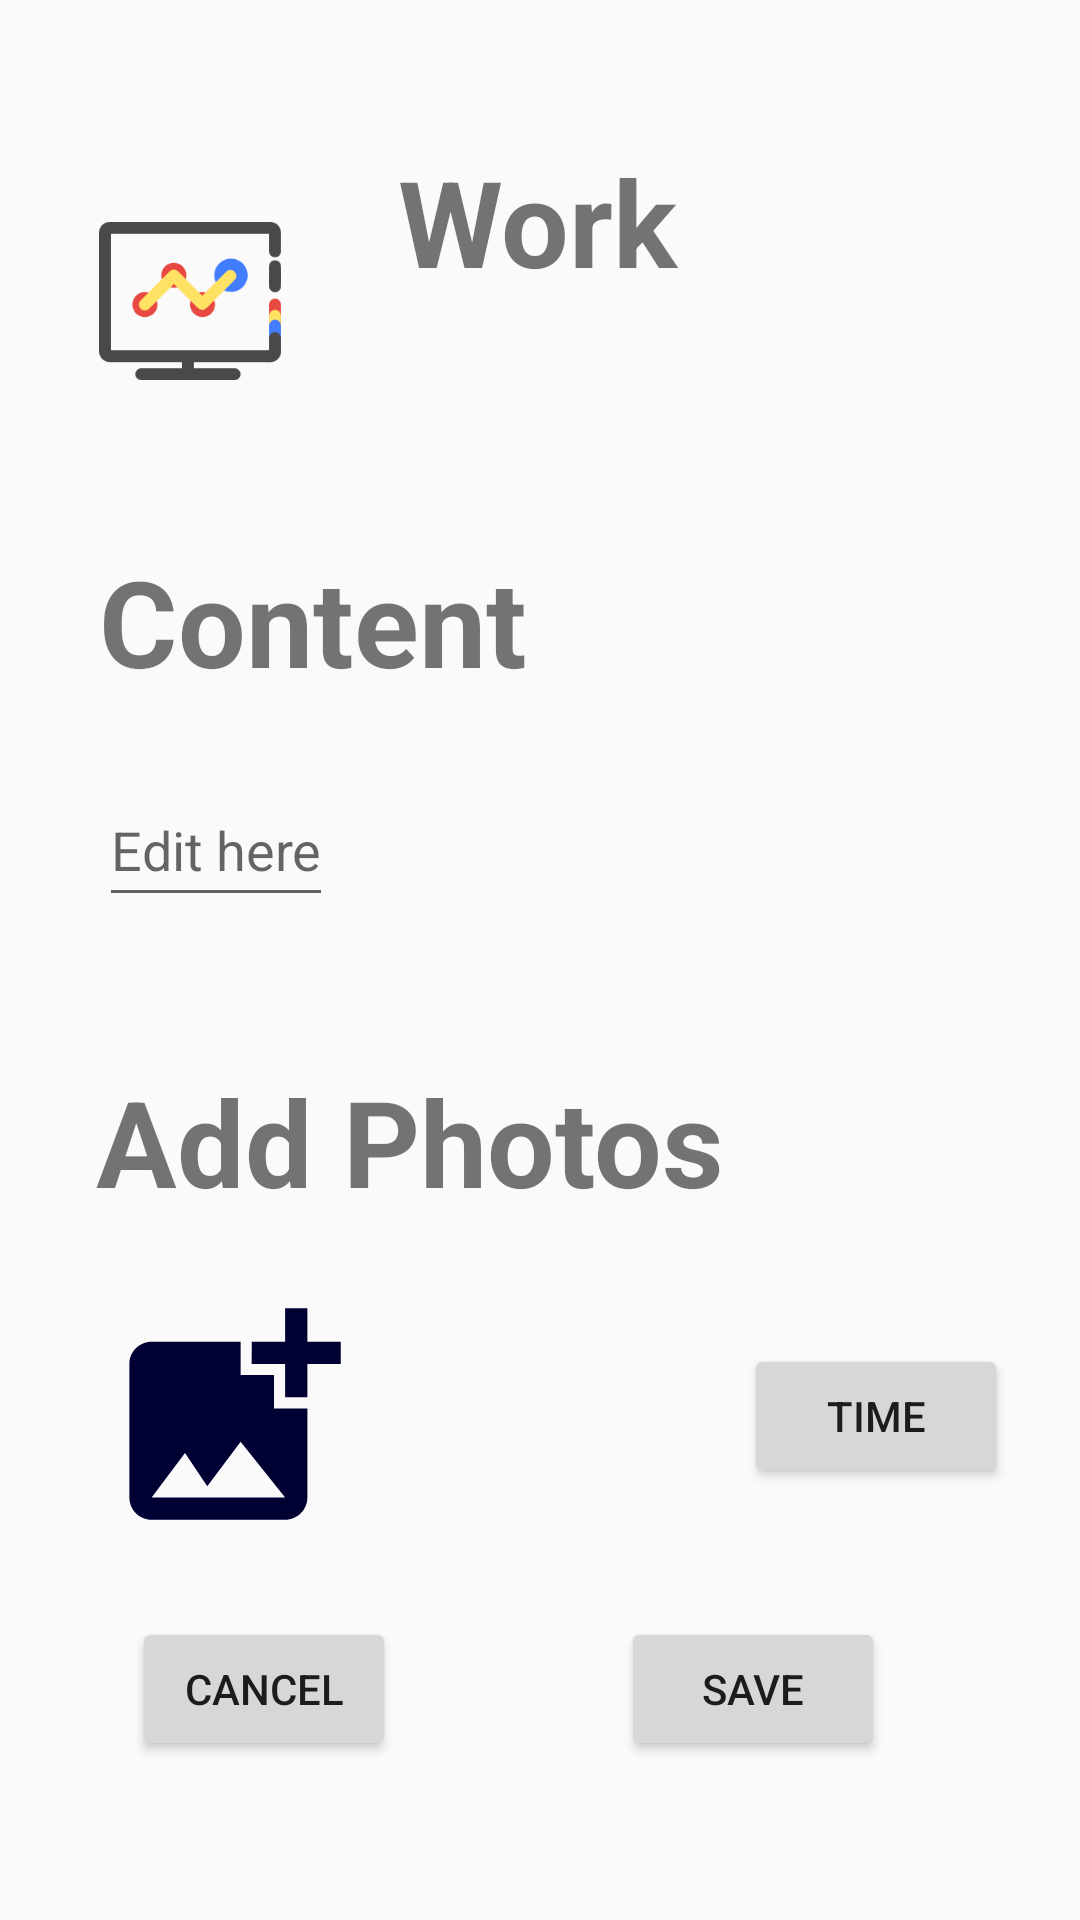

Named icons in this screenshot (1080px×1920px) and their centers, (x=x, y=y):
add photo alternate: (x=235, y=1414)
